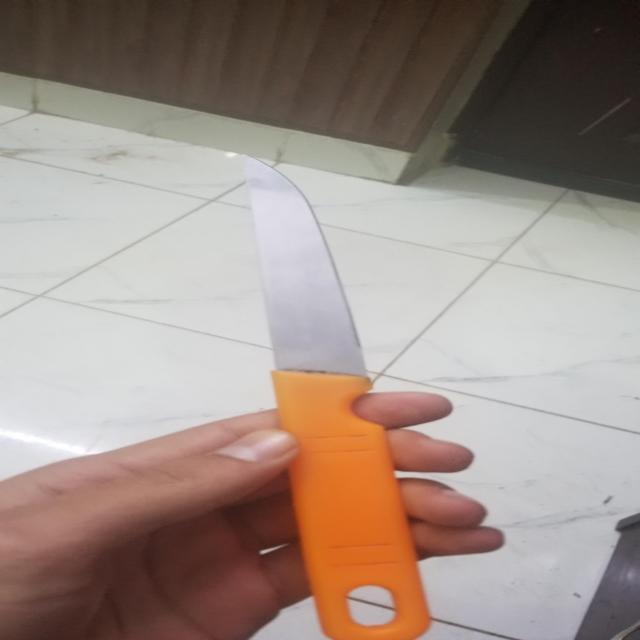knife: (220, 154, 464, 640)
